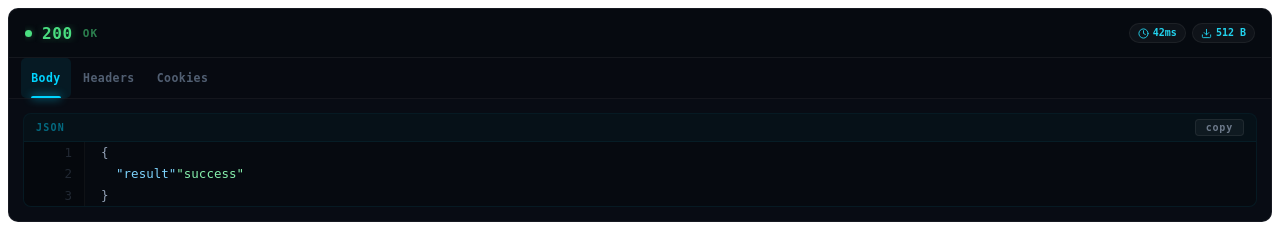
Test: ResponsePanel — tab interaction › shows cookies table when Cookies tab is clicked and cookies exist
Click the button "Cookies". click: coordinates (183, 78)
box: left=147, top=58, right=218, bottom=98
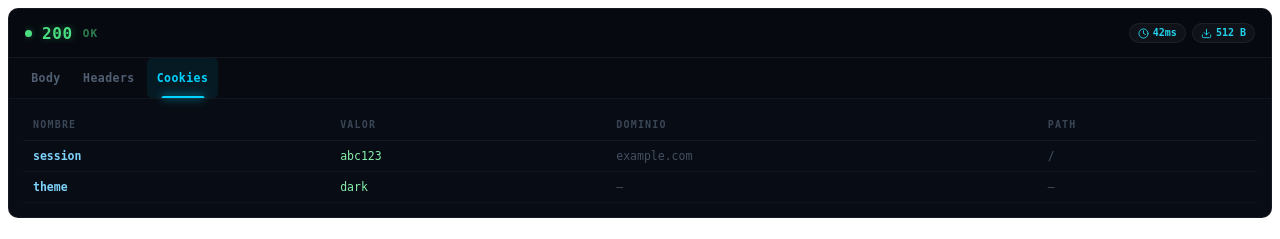
Expected: the text "session" is shown, left=23, top=141, right=330, bottom=172
Expected: the text "abc123" is shown, left=330, top=141, right=606, bottom=172
Expected: the text "example.com" is shown, left=606, top=141, right=1038, bottom=172
